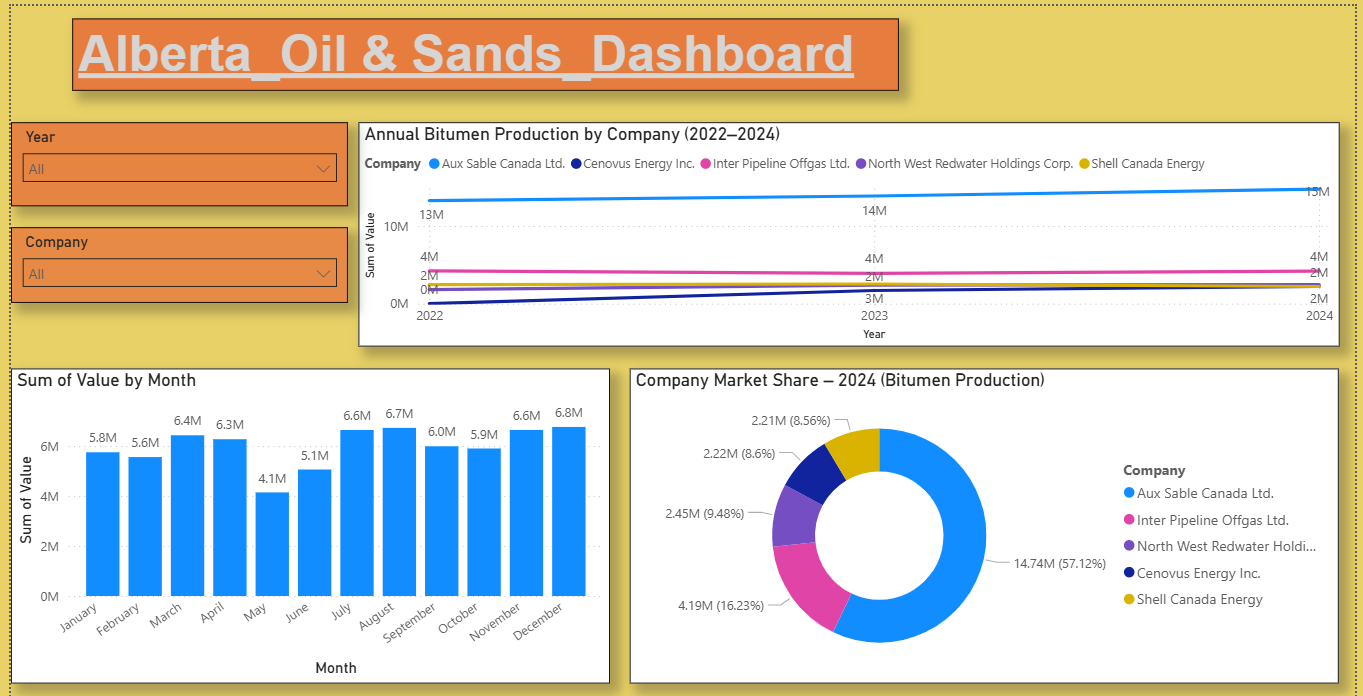

The page's visual inventory and layout, read from the dashboard file:
{"tool":"powerbi","page":{"name":"Page 1Alberta_Oil_Sands_Dashboard","canvas":[1280,720],"ordinal":0},"visuals":[{"type":"lineChart","title":"Annual Bitumen Production by Company (2022–2024)","fields":{"Category":["ab_energy_master.Year"],"Y":["Sum(ab_energy_master.Value)"],"Series":["ab_energy_master.Company"]},"box":[330.9,110.7,934.2,214],"z":0},{"type":"donutChart","title":"Company Market Share – 2024 (Bitumen Production)","fields":{"Category":["ab_energy_master.Company"],"Y":["Sum(ab_energy_master.Value)"]},"box":[589,345.6,675.1,299.9],"z":1},{"type":"clusteredColumnChart","fields":{"Y":["Sum(ab_energy_master.Value)"],"Category":["ab_energy_master.Month"]},"box":[0,345.6,570.2,299.9],"z":2},{"type":"slicer","fields":{"Values":["ab_energy_master.Year"]},"box":[0,110.7,320.9,79.6],"z":3},{"type":"slicer","fields":{"Values":["ab_energy_master.Company"]},"box":[0,210.2,320.9,72.1],"z":4},{"type":"textbox","box":[58.5,12.4,787.4,68.4],"z":5}]}

Visuals, with their boxes on the page's 1280x720 design canvas (x1, y1, x2, y2). These are canvas units, not pixel positions in the 1363x696 screenshot, which may show the page scaled, cropped or inside an application window:
"Annual Bitumen Production by Company (2022–2024)" lineChart: bbox=(331, 111, 1265, 325)
"Company Market Share – 2024 (Bitumen Production)" donutChart: bbox=(589, 346, 1264, 646)
clusteredColumnChart - Sum(ab_energy_master.Value) x ab_energy_master.Month: bbox=(0, 346, 570, 646)
slicer - ab_energy_master.Year: bbox=(0, 111, 321, 190)
slicer - ab_energy_master.Company: bbox=(0, 210, 321, 282)
textbox: bbox=(58, 12, 846, 81)
